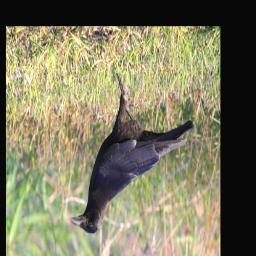Crow: (69, 68, 195, 236)
